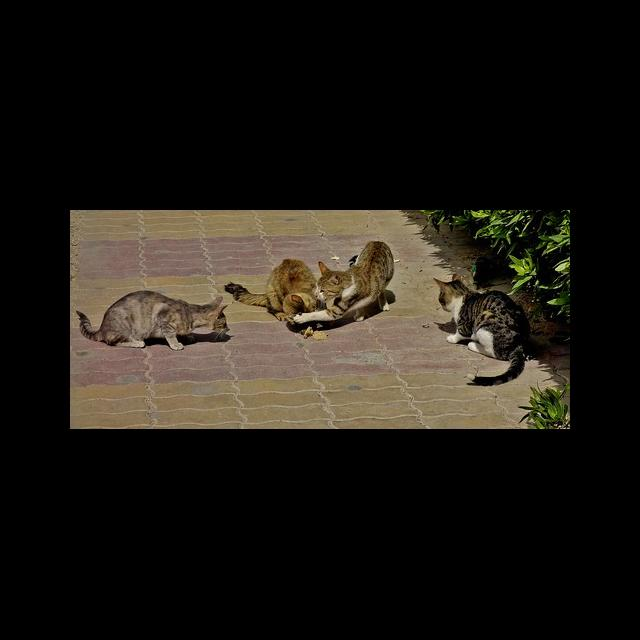animals: (432, 275, 531, 386), (75, 290, 230, 350), (295, 241, 395, 323), (224, 259, 316, 323)
